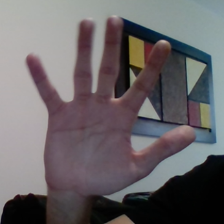left: (15, 8, 203, 200)
